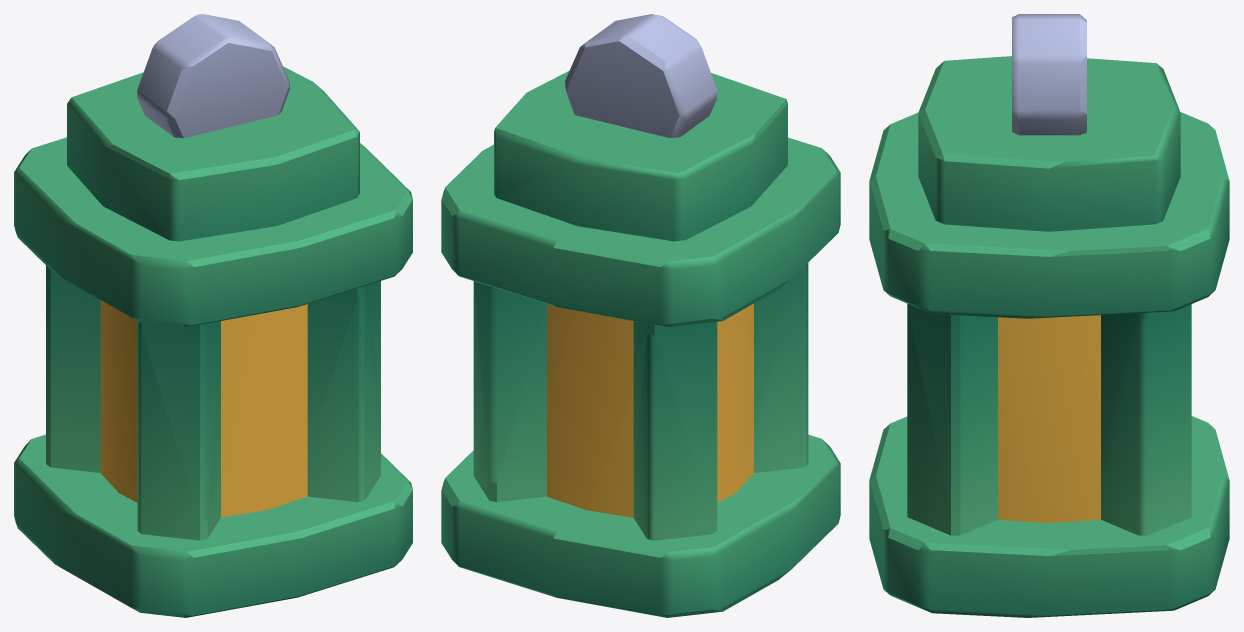
The model's file is kenney-graveyard__lantern-glass.glb.
3 renders of one model, left to right at view 1: azimuth 30°, elevation 25°; view 2: azimuth 150°, elevation 25°; view 3: azimuth 270°, elevation 25°, orthographic. The views are drawn at different scales.
Visible parts, largest first — view 1: lantern-glass; view 2: lantern-glass; view 3: lantern-glass.
Boxes of the visible parts, x1,y1,x2,y2 form: lantern-glass: [14, 14, 412, 617]; lantern-glass: [441, 14, 840, 617]; lantern-glass: [869, 14, 1229, 617].
Bounding box in the file's own units: 0.24 × 0.3863 × 0.24.
Materials: 1 (1 with a texture image).
